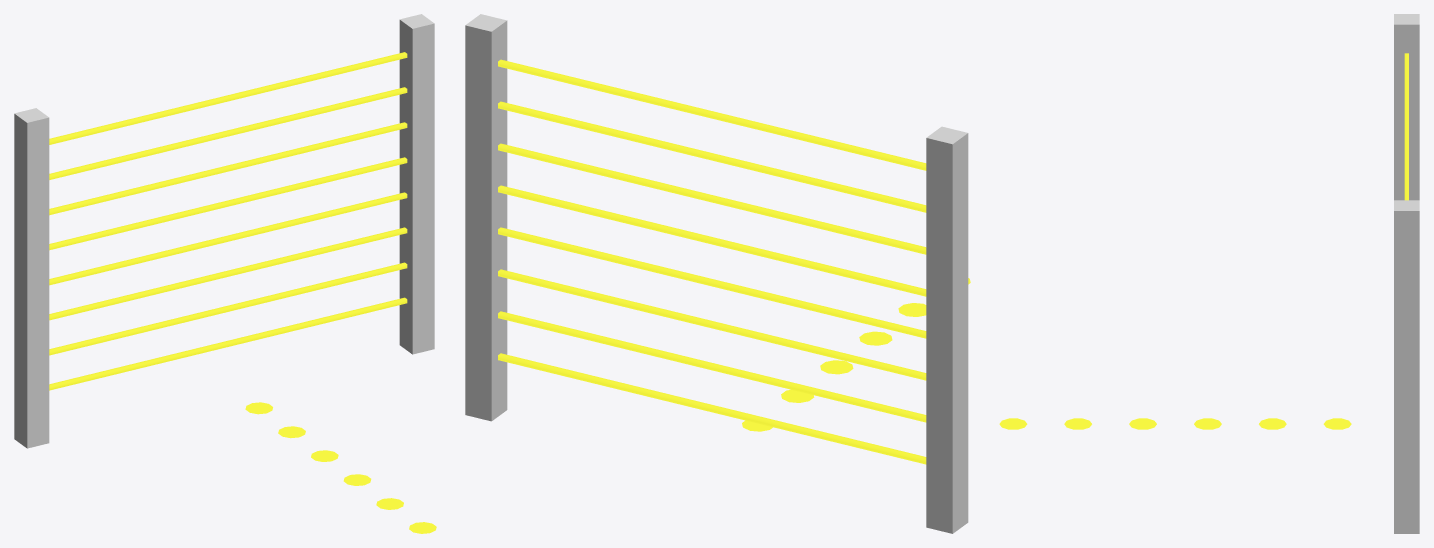
The model's file is SciFi_gate.glb.
The picture shows the model from 3 angles, left to right: view 1: azimuth 30°, elevation 25°; view 2: azimuth 150°, elevation 25°; view 3: azimuth 270°, elevation 25°; orthographic projection. The views are drawn at different scales.
Visible parts, largest first — view 1: Cube.002, Cube.003, Cylinder.004; view 2: Cube.002, Cube.003, Cylinder.004; view 3: Cube.002, Cylinder.004, Cube.003.
Boxes of the visible parts, bbox=[...] form: Cube.002: bbox=[14, 14, 434, 448]; Cube.003: bbox=[49, 52, 407, 390]; Cylinder.004: bbox=[245, 402, 436, 533]; Cube.002: bbox=[465, 14, 968, 533]; Cube.003: bbox=[498, 59, 926, 464]; Cylinder.004: bbox=[742, 278, 970, 431]; Cube.002: bbox=[1394, 14, 1419, 533]; Cylinder.004: bbox=[999, 418, 1351, 429]; Cube.003: bbox=[1404, 53, 1408, 200].
Size of the model in its own units: 1.68 by 1.29 by 1.52.
